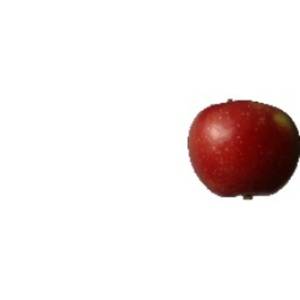maçã braeburn: (186, 98, 300, 204)
